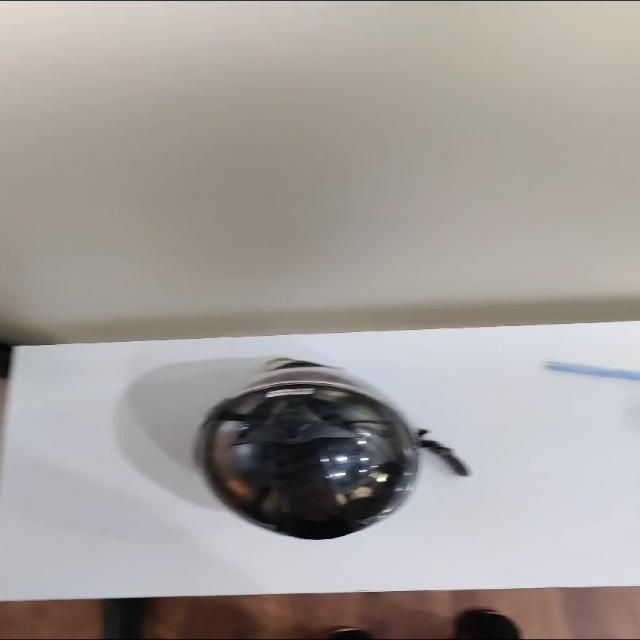helmet: (194, 358, 469, 539)
